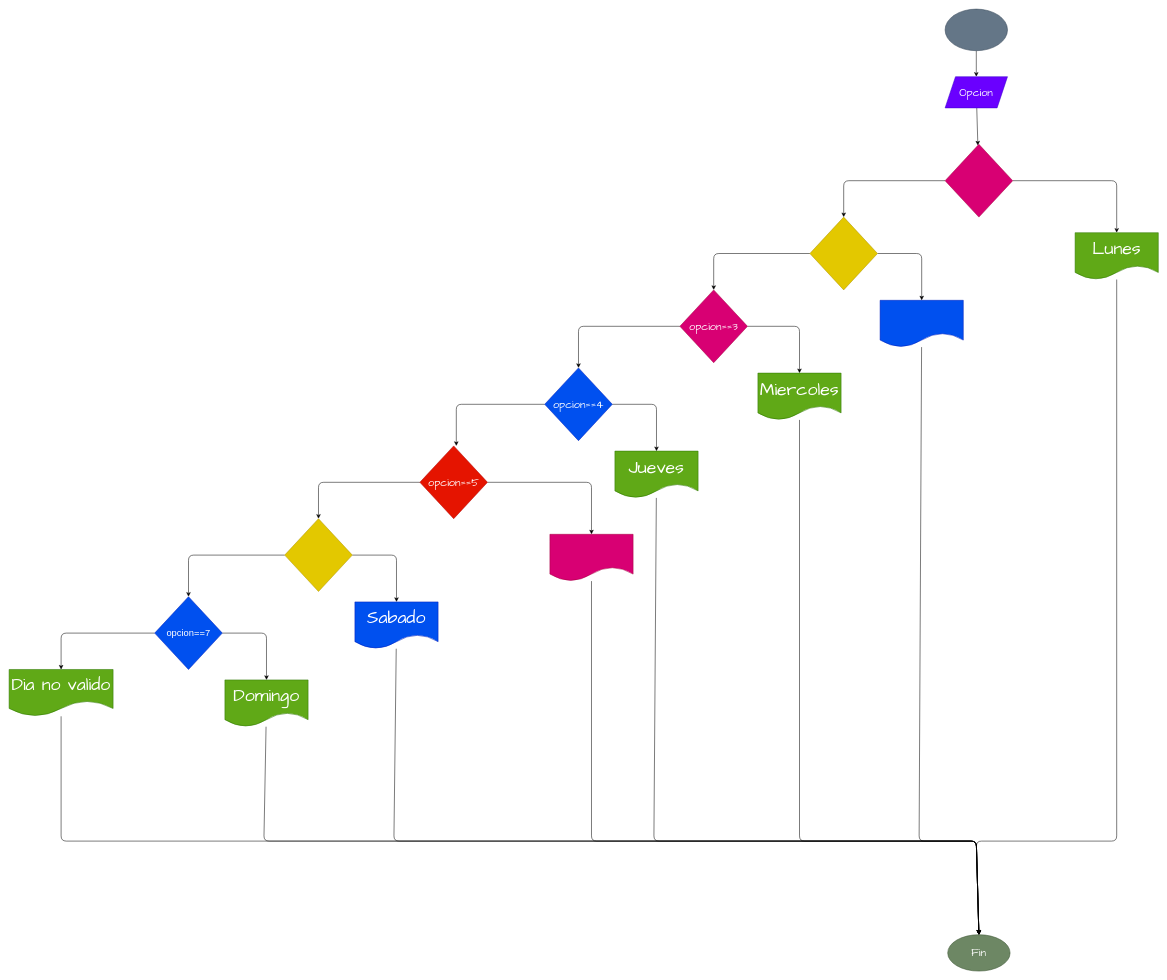
This 1167x980 diagram has some shape labels left out. Each missing label, with the box of its shape:
Inicio: (945, 9, 1008, 51)
Martes: (880, 300, 963, 347)
Opcion==1: (945, 144, 1013, 217)
opcion==2: (809, 217, 878, 290)
opcion==6: (284, 518, 352, 592)
Viernes: (549, 534, 633, 581)
